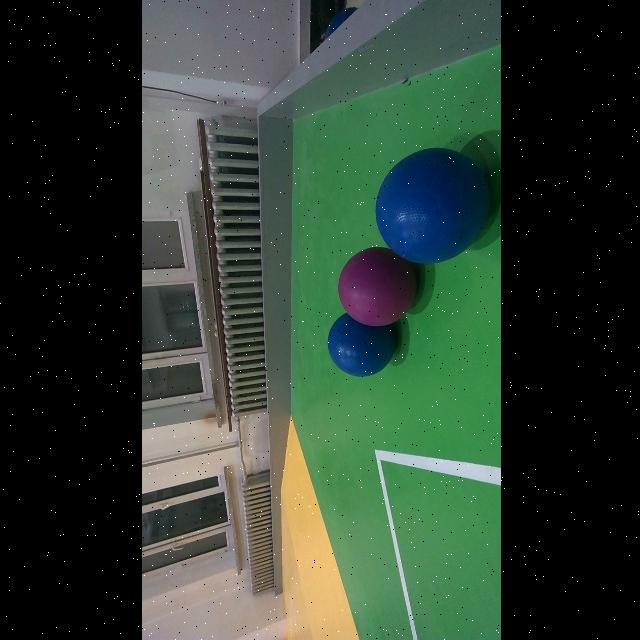B: (373, 146, 491, 264), (326, 312, 396, 376)
P: (335, 250, 419, 326)
